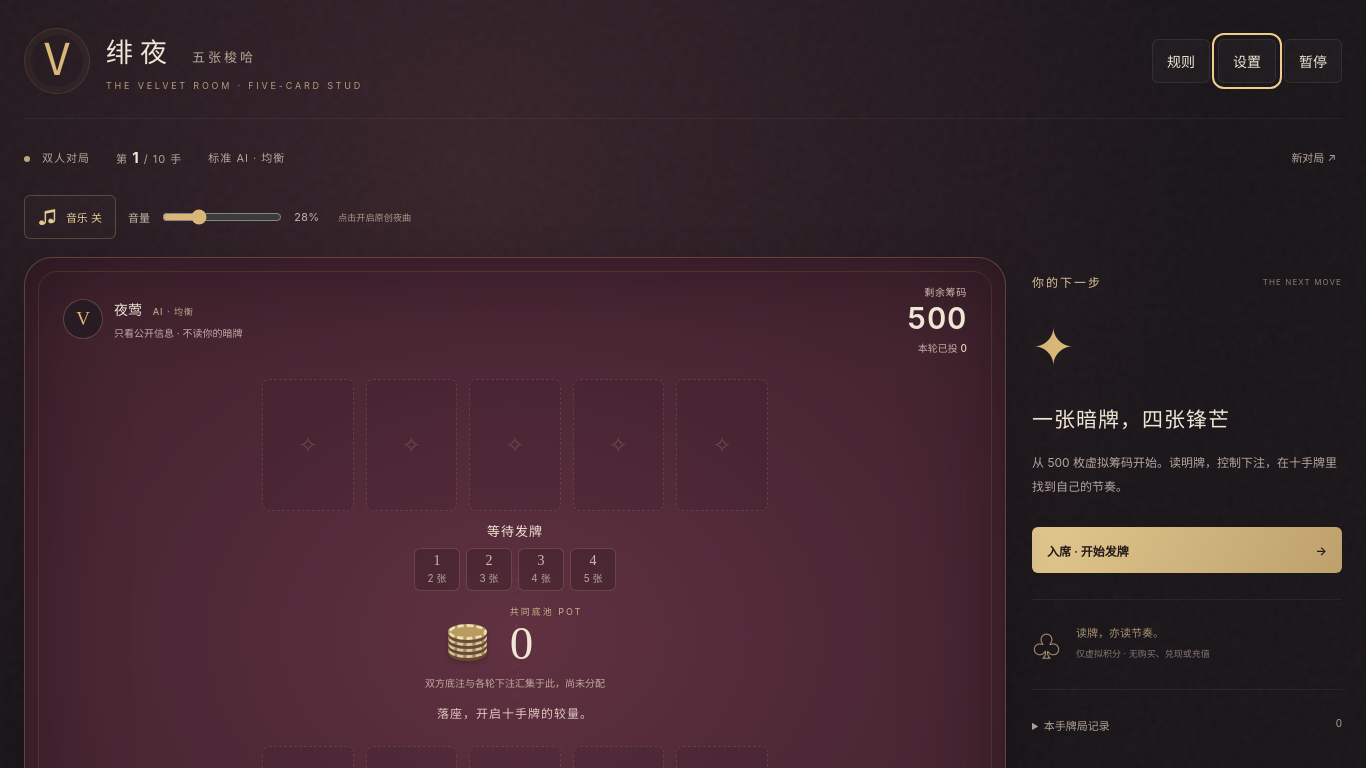
Scenario: interaction lifecycle › defaults audio off, trap focus, closes Escape and restores focus
Step 1. Click the button "设置" → x=1247, y=61, box [1218,39,1276,83]
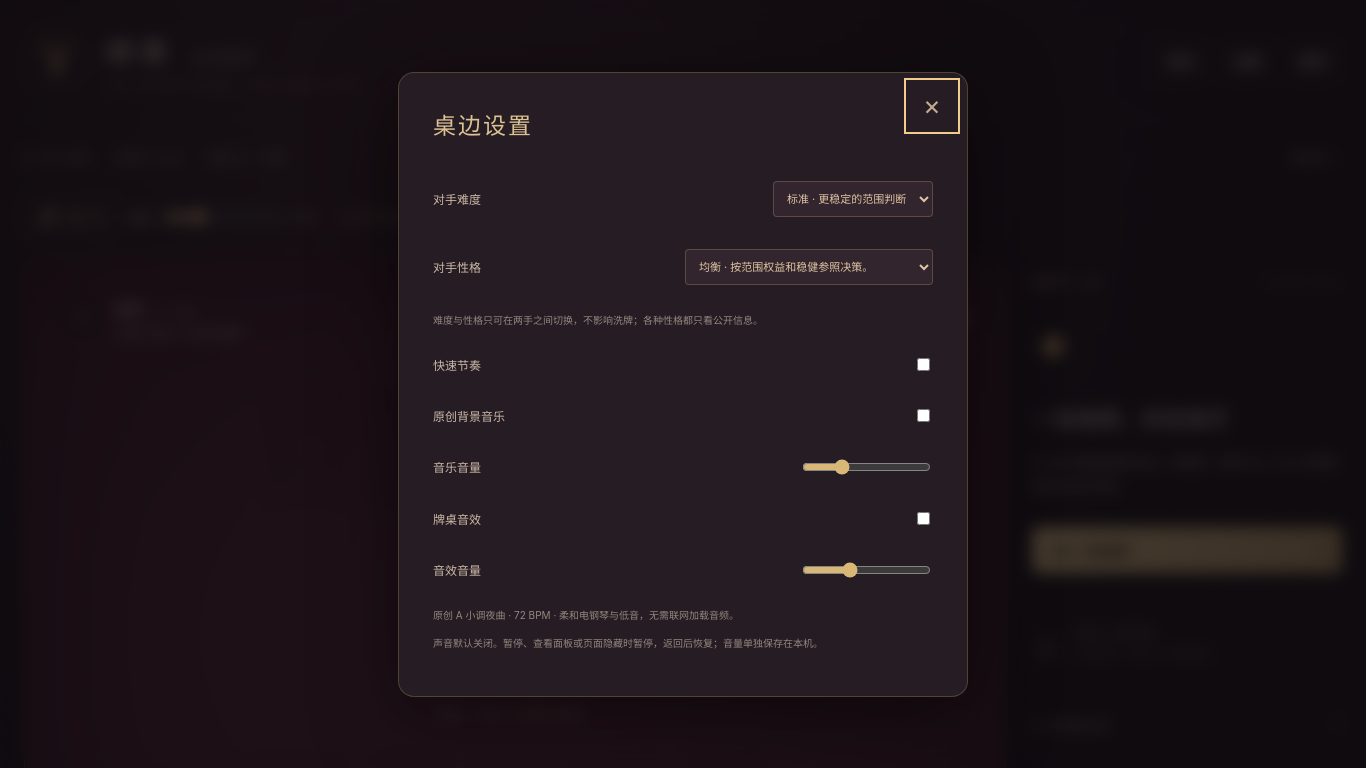
expect the checkbox labelled "原创背景音乐" is not checked: met, box [917,408,930,422]
expect the checkbox labelled "牌桌音效" is not checked: met, box [917,512,930,524]
Step 2. Press Tab in the button named "关闭弹窗", box [910,84,954,128]
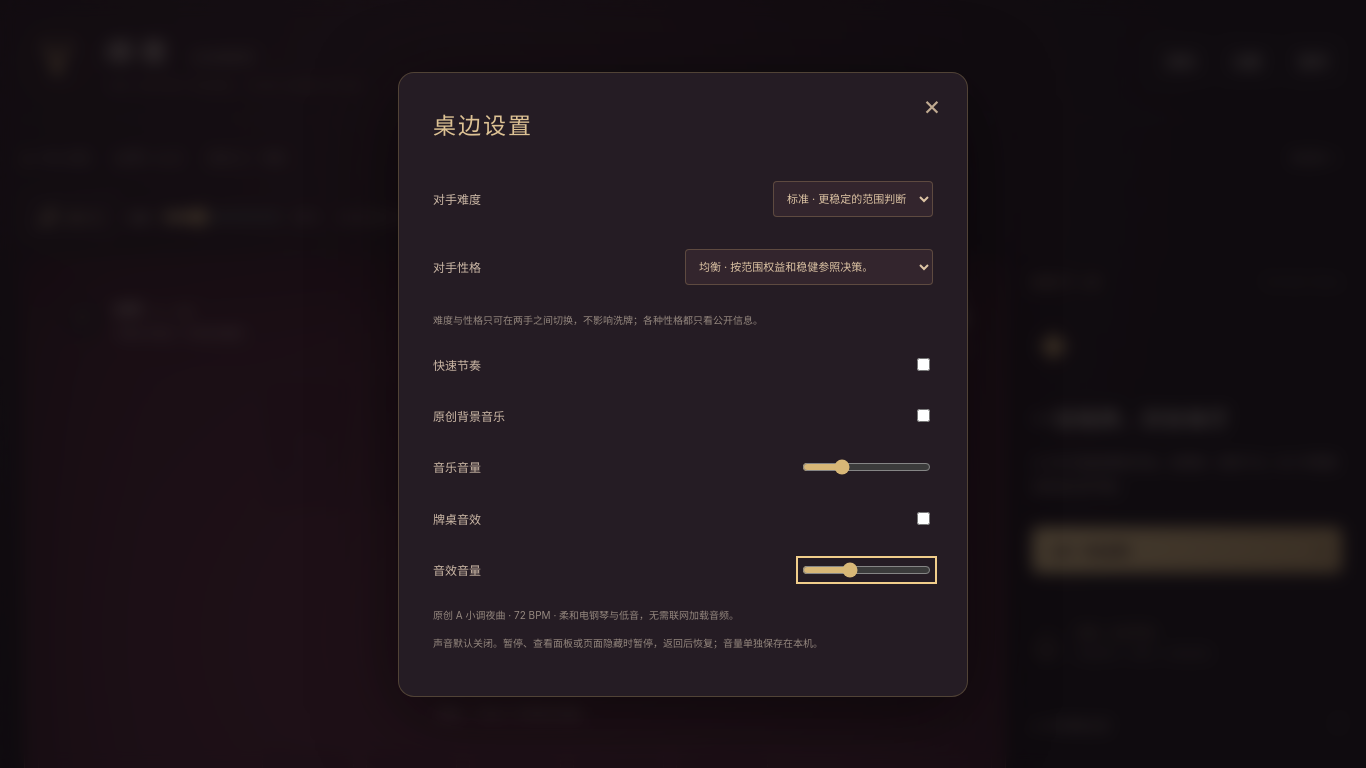
Step 3. Press Escape
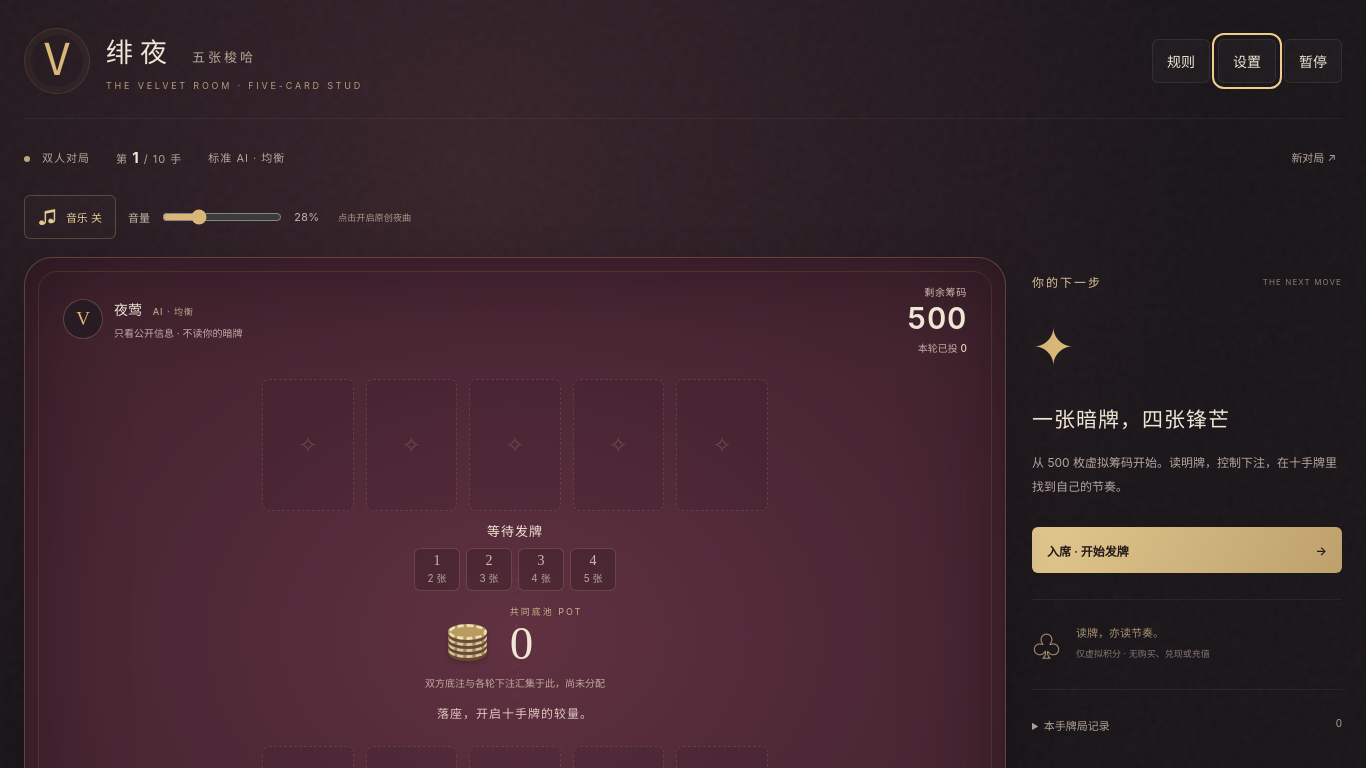
expect the dialog is gone: met
